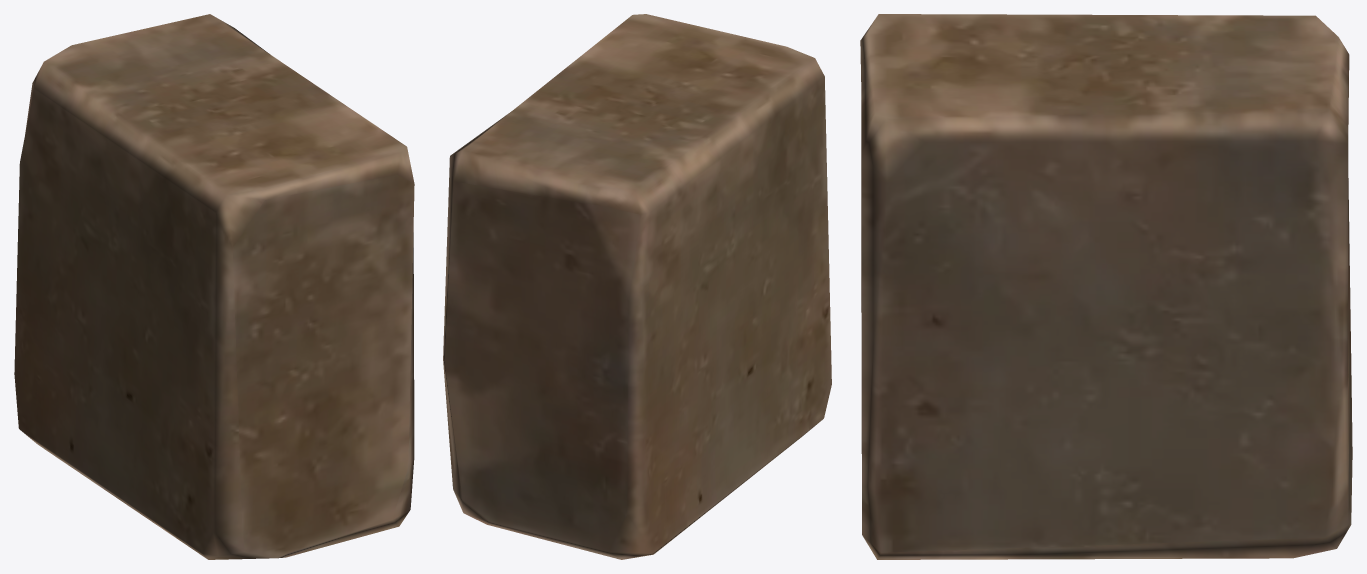
3 renders of one model, left to right at view 1: azimuth 30°, elevation 25°; view 2: azimuth 150°, elevation 25°; view 3: azimuth 270°, elevation 25°, orthographic. The views are drawn at different scales.
Parts seen in each view (by area): view 1: SM_DK_Brick_08_LOD0; view 2: SM_DK_Brick_08_LOD0; view 3: SM_DK_Brick_08_LOD0.
Boxes of the visible parts, <box> form: SM_DK_Brick_08_LOD0: <box>14,14,414,559</box>; SM_DK_Brick_08_LOD0: <box>443,14,831,559</box>; SM_DK_Brick_08_LOD0: <box>860,14,1352,559</box>.
Bounding box in the file's own units: 0.7999 × 1.36 × 1.35.
